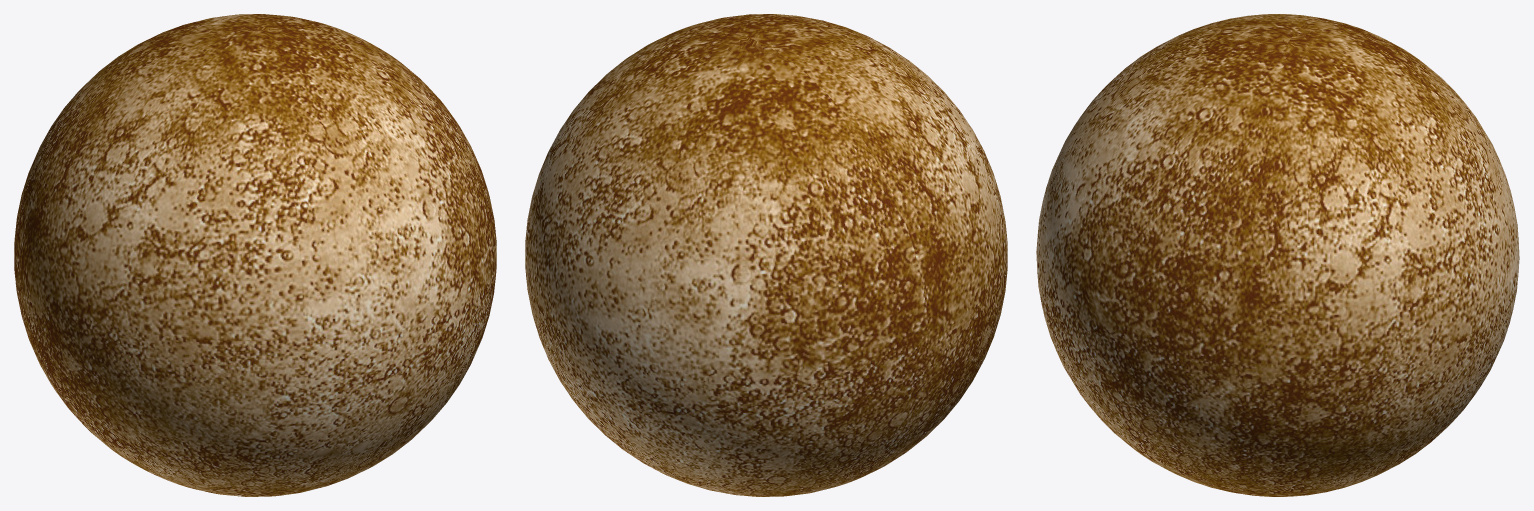
Rendered from mercury.obj.
The picture shows the model from 3 angles, left to right: view 1: azimuth 30°, elevation 25°; view 2: azimuth 150°, elevation 25°; view 3: azimuth 270°, elevation 25°; orthographic projection.
Visible parts, largest first — view 1: Sphere; view 2: Sphere; view 3: Sphere.
Part boxes in pixels (bbox=[...]): Sphere: bbox=[14, 14, 496, 496]; Sphere: bbox=[525, 14, 1007, 496]; Sphere: bbox=[1036, 14, 1519, 496].
Bounding box in the file's own units: 2 × 2 × 2.
